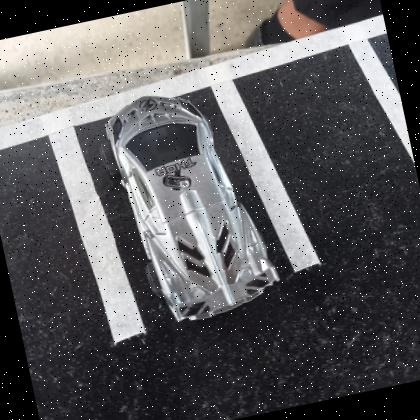Car: (105, 97, 278, 323)
